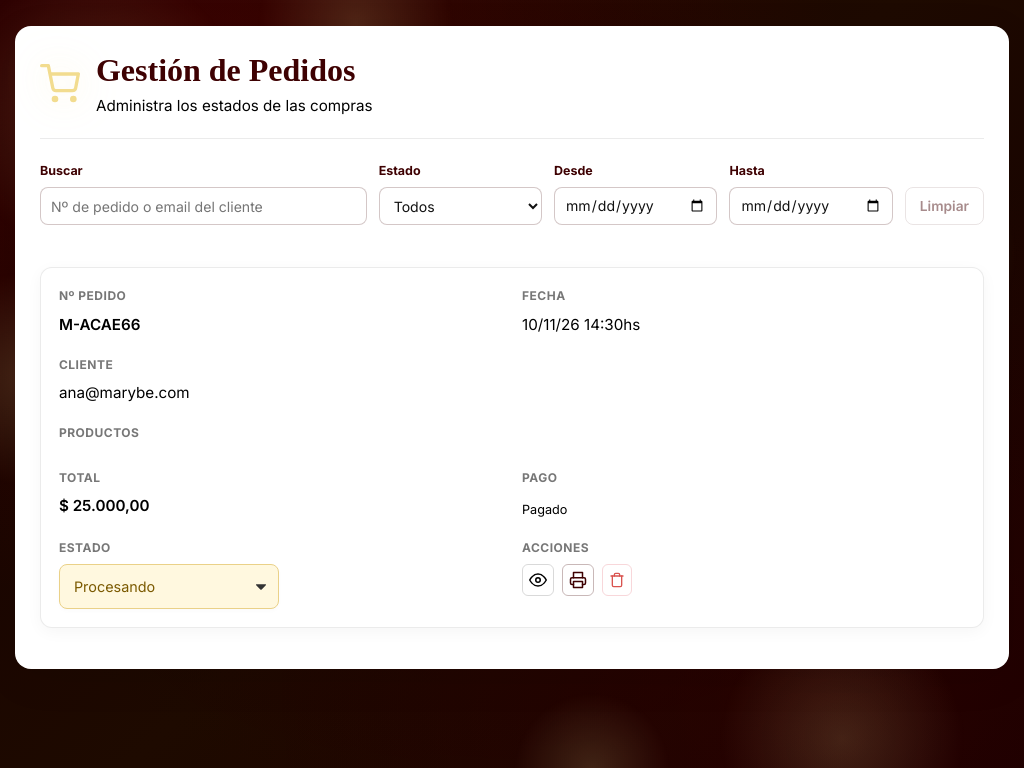
Test: PedidosAdmin › filtra por buscador, estado y fechas enviando filtros REST esperados
Expected: the text "M-ACAE66" is shown, [59,286,502,337]
Select "Enviado" in the dropdown labelled "Estado": (460, 206) [379,187,542,225]
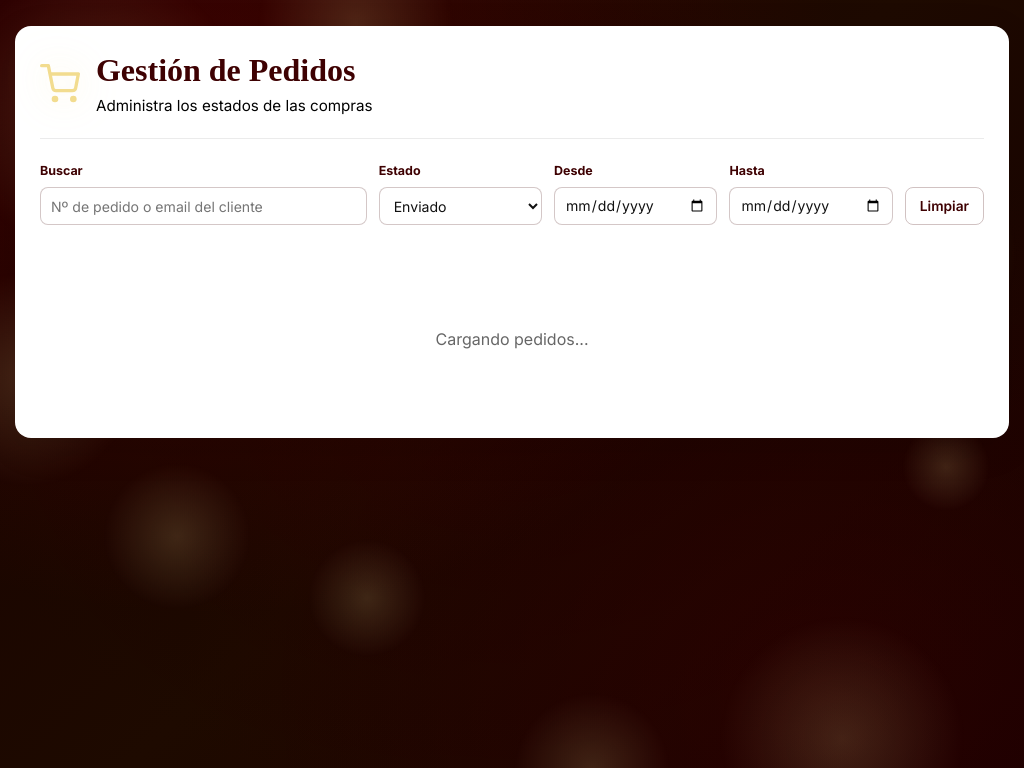
In the date field labelled "Desde": (636, 206) [554,187,717,225], type "2026-11-01"
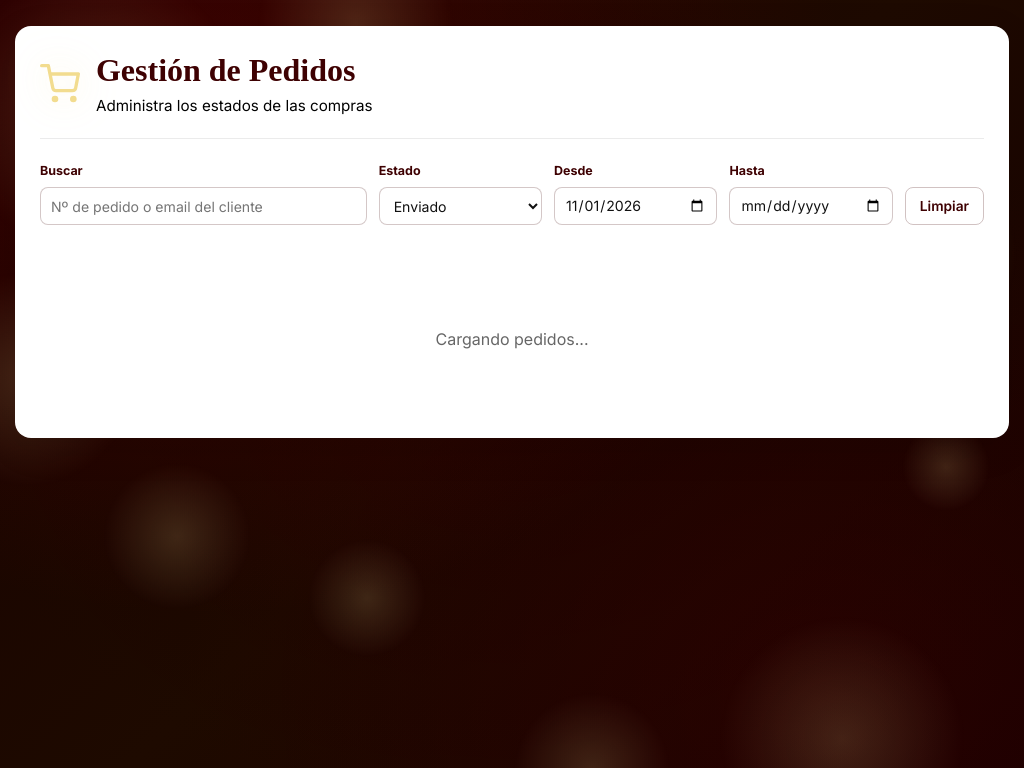
In the date field labelled "Hasta": (811, 206) [729,187,893,225], type "2026-11-10"
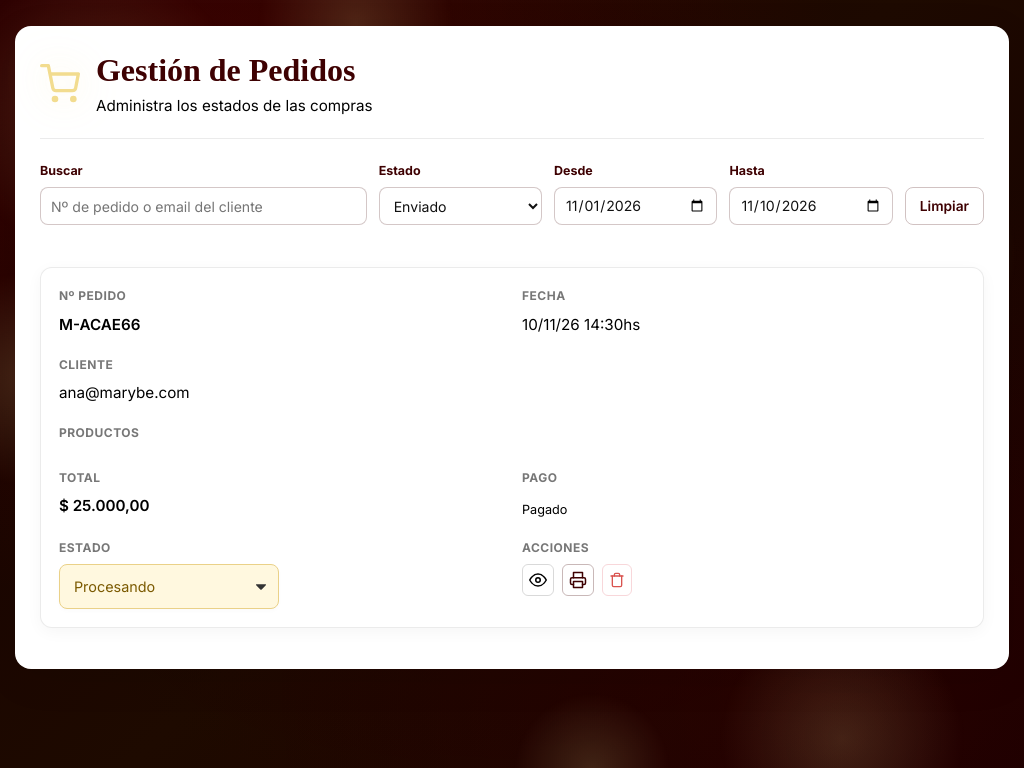
In the search field labelled "Buscar": (203, 206) [40,187,367,225], type "ACAE66"
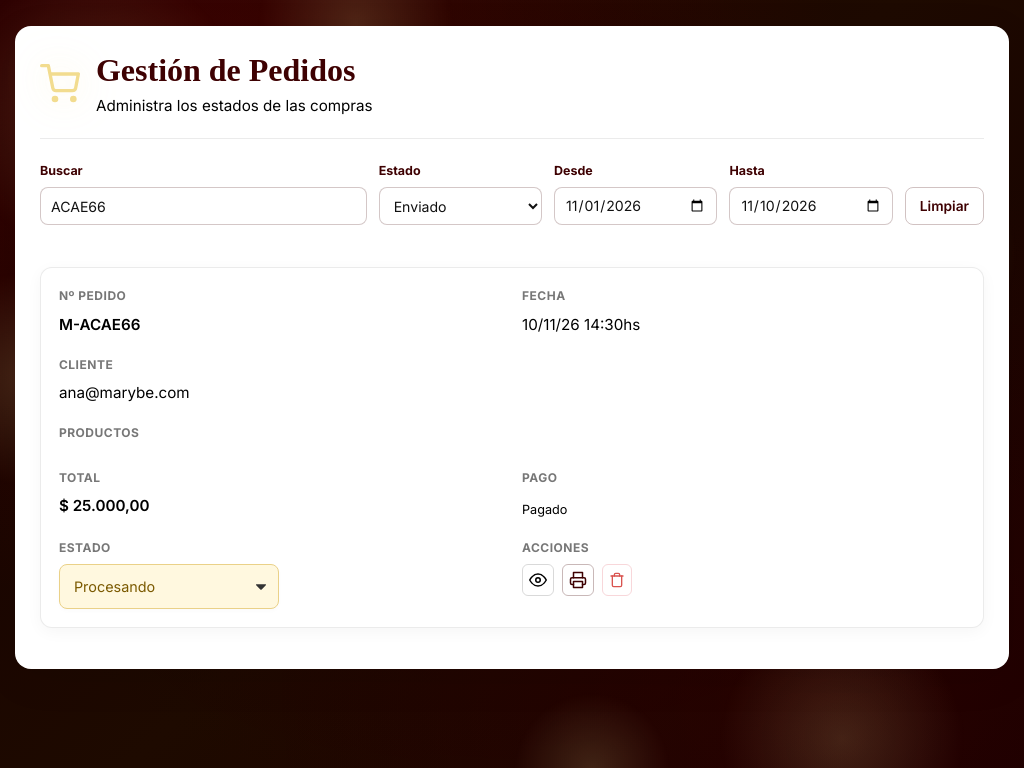
Click the button "Limpiar": click(944, 206) [905,187,984,225]
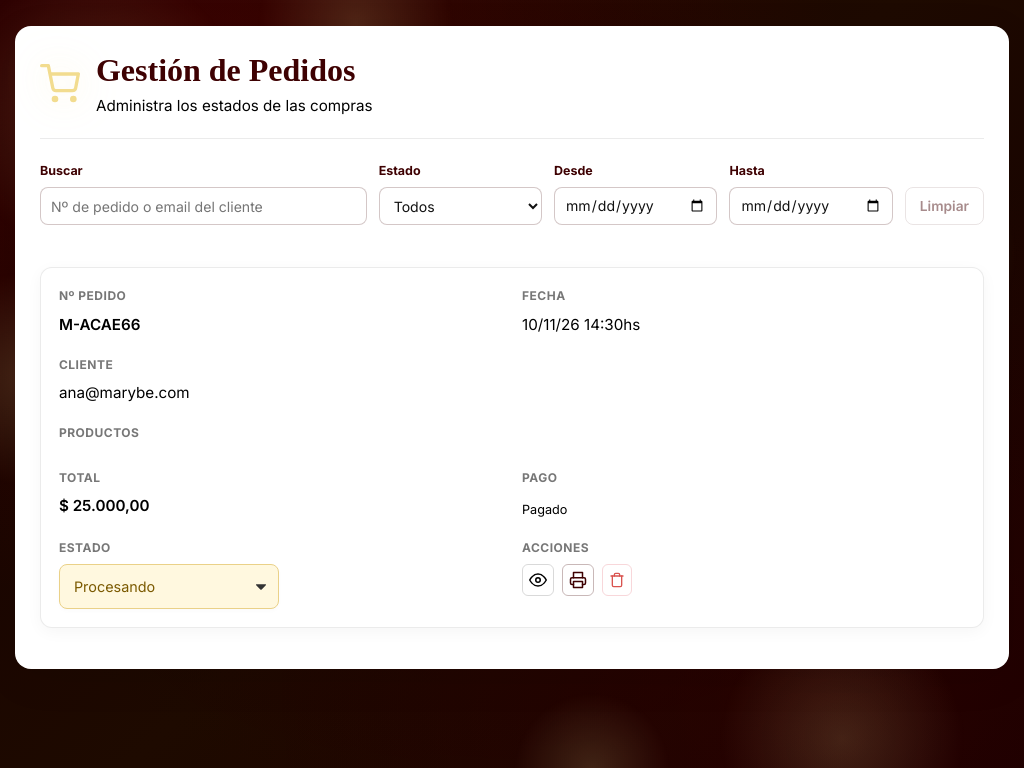
Result: the search field labelled "Buscar" is empty at [40,187,367,225]
